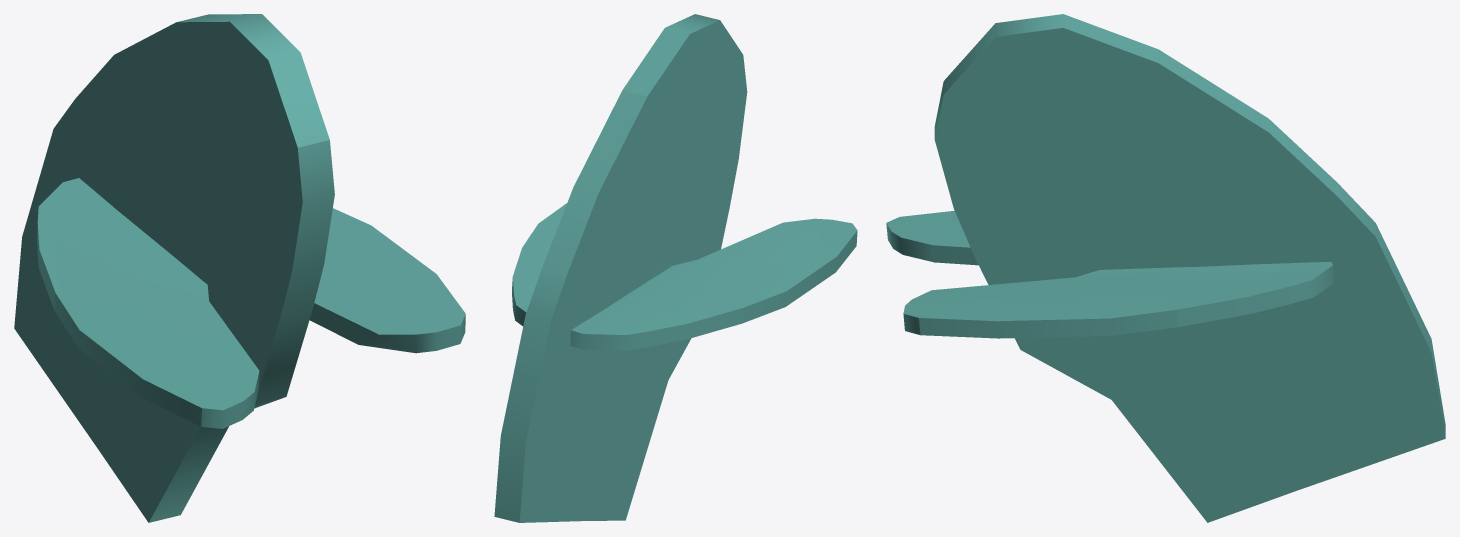
The model's file is SM_BackWing.fbx.
The picture shows the model from 3 angles, left to right: view 1: azimuth 30°, elevation 25°; view 2: azimuth 150°, elevation 25°; view 3: azimuth 270°, elevation 25°; orthographic projection. The views are drawn at different scales.
Parts seen in each view (by area): view 1: SM_BackWing; view 2: SM_BackWing; view 3: SM_BackWing.
Boxes of the visible parts, x1,y1,x2,y2 form: SM_BackWing: (14, 14, 465, 522); SM_BackWing: (494, 14, 857, 522); SM_BackWing: (886, 14, 1445, 522).
Bounding box in the file's own units: 59.99 × 105 × 108.
